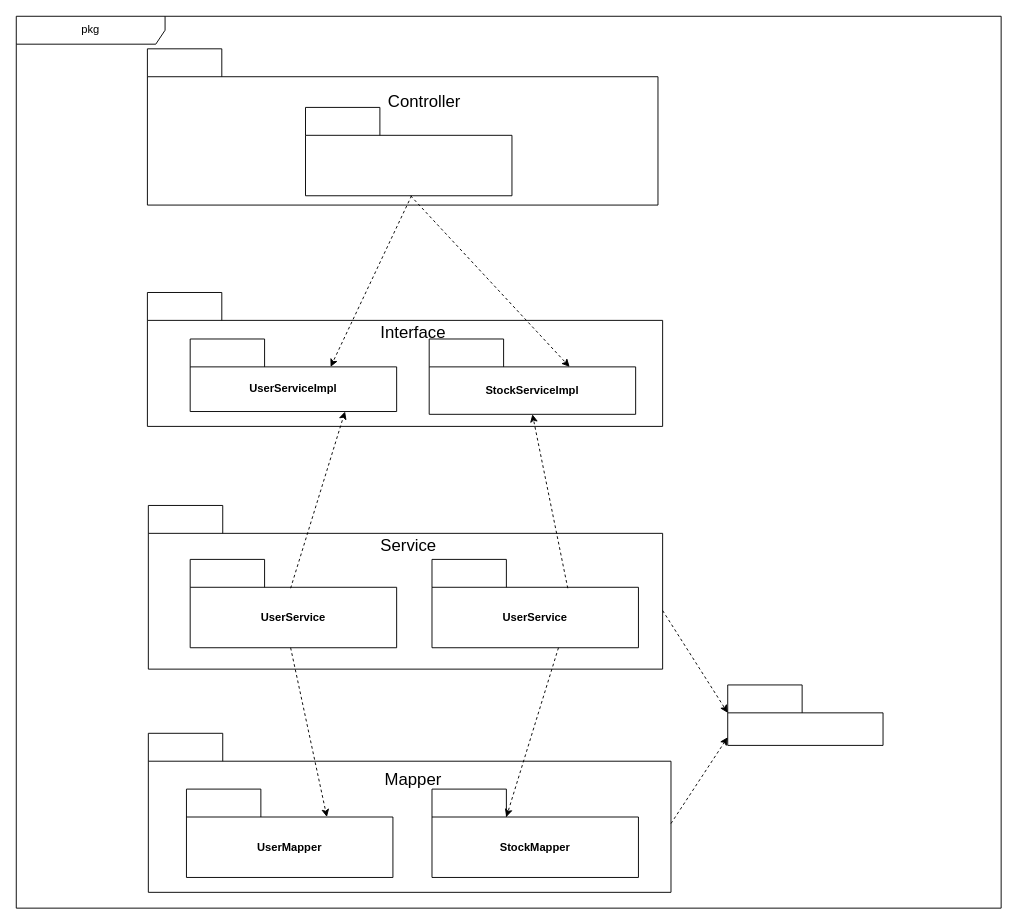
Some shapes in this 1017 by 924 pixel diagram are drawn without their labels. Each missing label, with the centre of its shape:
"PO" belongs at pixel 805 714.
"UserController" belongs at pixel 408 151.
